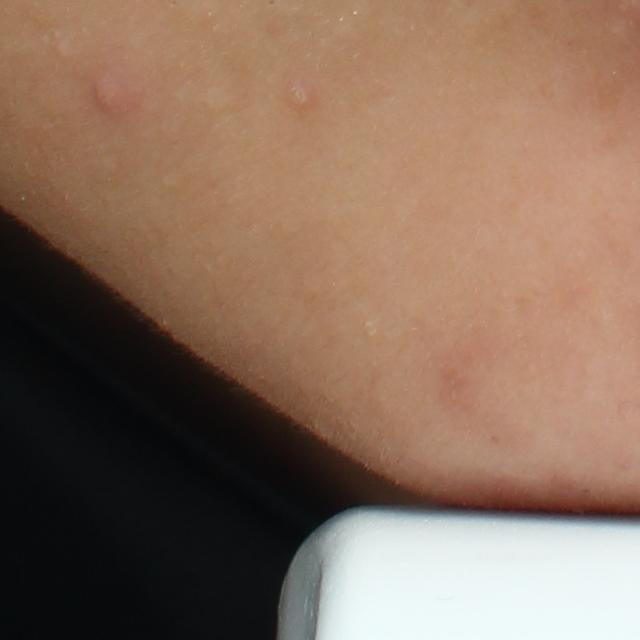comedo: (51, 41, 74, 64)
papule: (89, 75, 129, 115)
